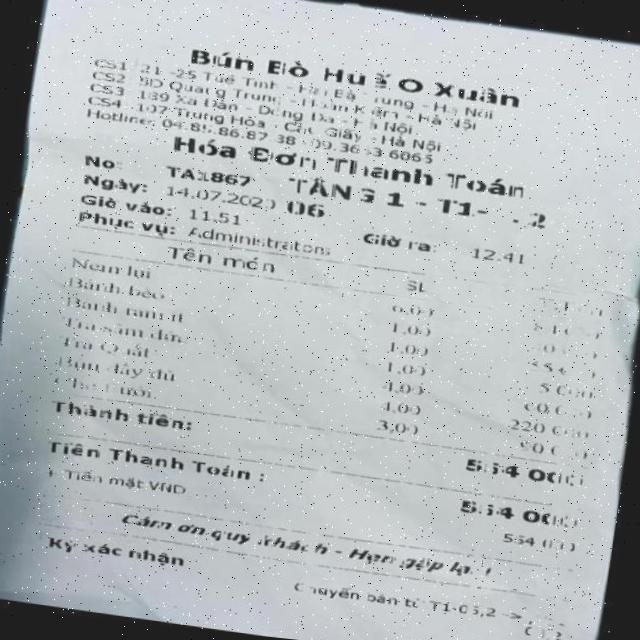Date: (160, 178, 286, 216)
Store_Name: (168, 23, 541, 113)
amount_number: (452, 490, 584, 536)
label_total: (41, 434, 258, 486)
